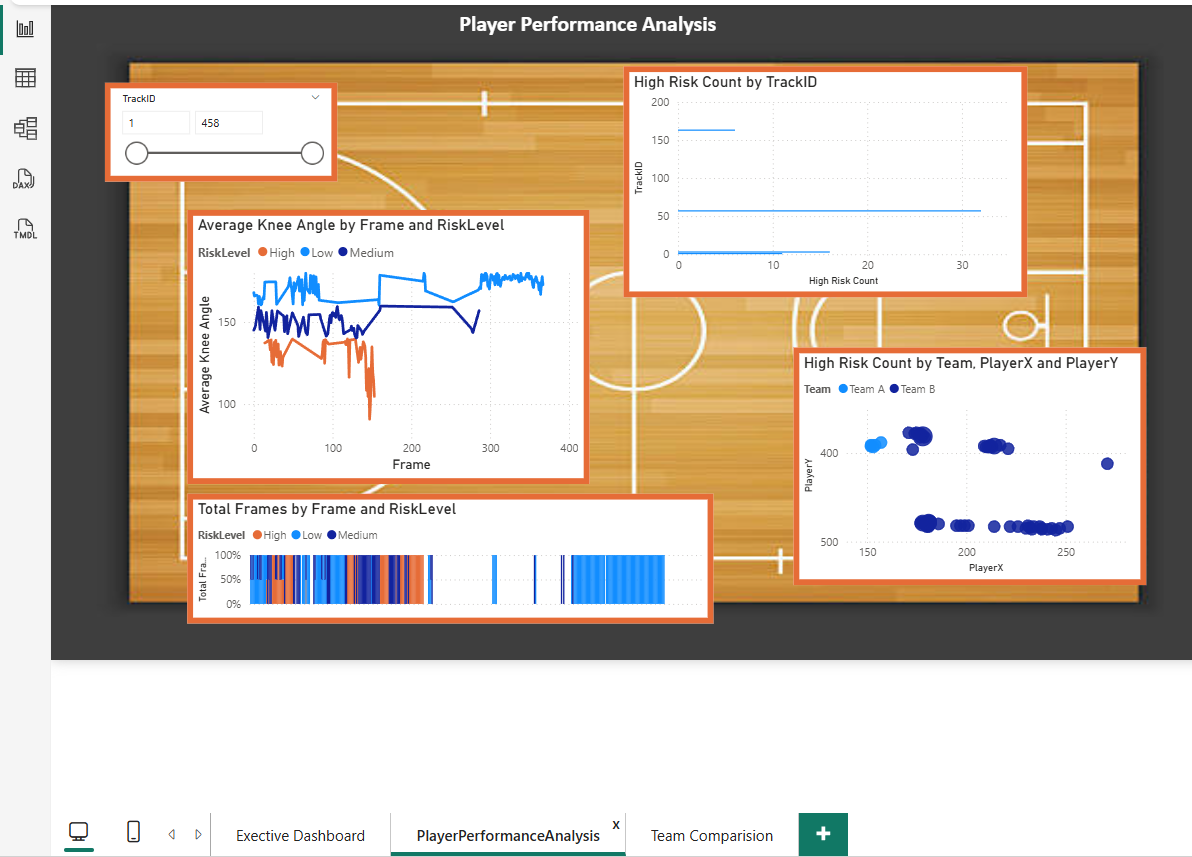

The page's visual inventory and layout, read from the dashboard file:
{"tool":"powerbi","page":{"name":"PlayerPerformanceAnalysis","canvas":[1280,720],"ordinal":1},"visuals":[{"type":"textbox","box":[443.2,0,488.5,85.1],"z":0},{"type":"lineChart","fields":{"Category":["basketball_team_tracking_final_strict.Frame"],"Y":["basketball_team_tracking_final_strict.Average Knee Angle"],"Series":["basketball_team_tracking_final_strict.RiskLevel"]},"box":[149.6,225,441.9,300.5],"z":1000},{"type":"slicer","fields":{"Values":["basketball_team_tracking_final_strict.TrackID"]},"box":[59,85.1,255.2,108.4],"z":2000},{"type":"hundredPercentStackedColumnChart","fields":{"Category":["basketball_team_tracking_final_strict.Frame"],"Y":["basketball_team_tracking_final_strict.Total Frames"],"Series":["basketball_team_tracking_final_strict.RiskLevel"]},"box":[149.6,536.5,577.7,142.7],"z":3000},{"type":"barChart","fields":{"Category":["basketball_team_tracking_final_strict.TrackID"],"Y":["basketball_team_tracking_final_strict.High Risk Count"]},"box":[628.5,67.2,443.2,253.9],"z":4000},{"type":"scatterChart","fields":{"X":["basketball_team_tracking_final_strict.PlayerX"],"Y":["basketball_team_tracking_final_strict.PlayerY"],"Size":["basketball_team_tracking_final_strict.High Risk Count"],"Series":["basketball_team_tracking_final_strict.Team"]},"box":[815.1,376,387,260.7],"z":5000}]}

Visuals, with their boxes on the page's 1280x720 design canvas (x1, y1, x2, y2). These are canvas units, not pixel positions in the 1192x857 screenshot, which may show the page scaled, cropped or inside an application window:
textbox: 443, 0, 932, 85
lineChart - basketball_team_tracking_final_strict.Frame x basketball_team_tracking_final_strict.Average Knee Angle: 150, 225, 592, 526
slicer - basketball_team_tracking_final_strict.TrackID: 59, 85, 314, 194
hundredPercentStackedColumnChart - basketball_team_tracking_final_strict.Frame x basketball_team_tracking_final_strict.Total Frames: 150, 536, 727, 679
barChart - basketball_team_tracking_final_strict.TrackID x basketball_team_tracking_final_strict.High Risk Count: 628, 67, 1072, 321
scatterChart - basketball_team_tracking_final_strict.PlayerX x basketball_team_tracking_final_strict.PlayerY: 815, 376, 1202, 637
